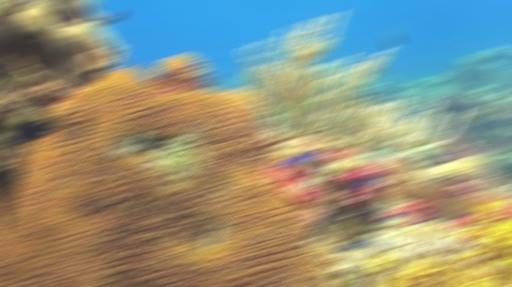Fish: (6, 109, 67, 142), (6, 119, 57, 142), (95, 10, 122, 26), (283, 153, 316, 166), (339, 241, 368, 250), (383, 32, 400, 46), (357, 177, 376, 187), (359, 206, 378, 215), (382, 213, 399, 221), (209, 76, 219, 85)
